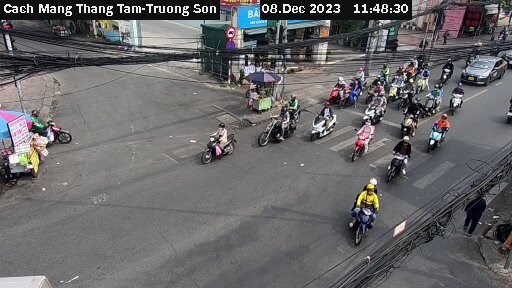car: (460, 53, 506, 89)
motorbike: (340, 182, 382, 247), (377, 137, 416, 182), (198, 124, 239, 166), (256, 107, 297, 145), (346, 117, 375, 163), (425, 115, 456, 154), (308, 101, 337, 142), (360, 95, 389, 124), (322, 79, 348, 104), (399, 106, 422, 134), (448, 85, 469, 114), (424, 87, 446, 111), (439, 59, 459, 81), (373, 63, 391, 82), (354, 67, 370, 87)
